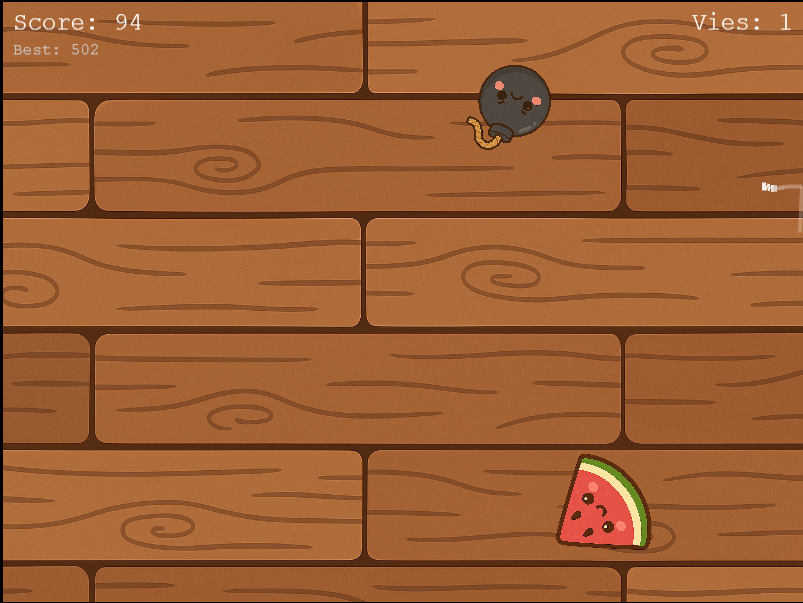bomb: (462, 59, 557, 156)
fruit: (552, 450, 660, 560)
